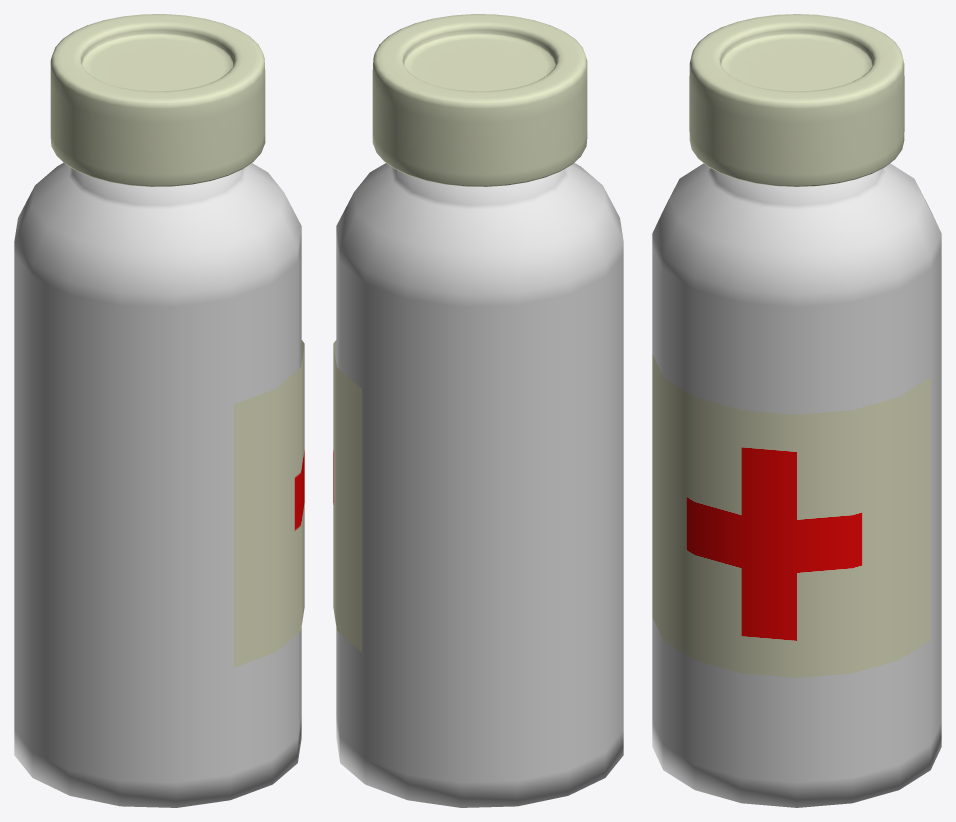
The model's file is Botella_Item.fbx.
3 renders of one model, left to right at view 1: azimuth 30°, elevation 25°; view 2: azimuth 150°, elevation 25°; view 3: azimuth 270°, elevation 25°, orthographic.
Visible parts, largest first — view 1: Botella, Tapa, Etiqueta; view 2: Botella, Tapa, Etiqueta; view 3: Botella, Etiqueta, Tapa.
Part boxes in pixels (x1,y1,x2,y2): Botella: (14,162,301,807); Tapa: (50,14,265,186); Etiqueta: (233,340,304,667); Botella: (336,162,623,807); Tapa: (372,14,587,186); Etiqueta: (333,340,361,651); Botella: (652,163,941,807); Etiqueta: (652,354,930,677); Tapa: (689,14,904,186).
Size of the model in its own units: 202 by 526 by 200.
4 materials, 1 textured.
